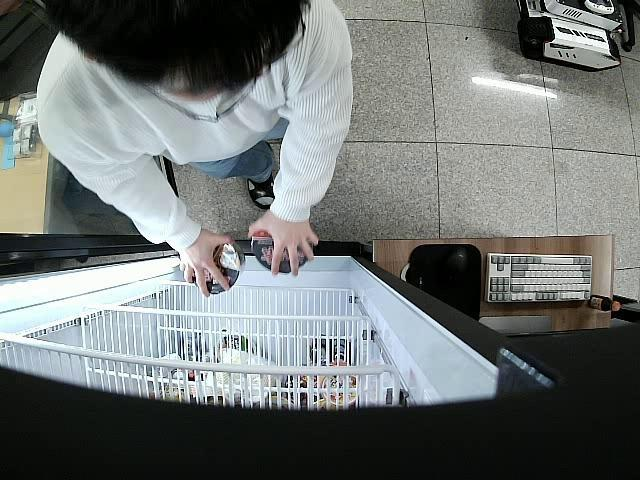07_buldak_L: (192, 241, 244, 294), (252, 229, 311, 272)
